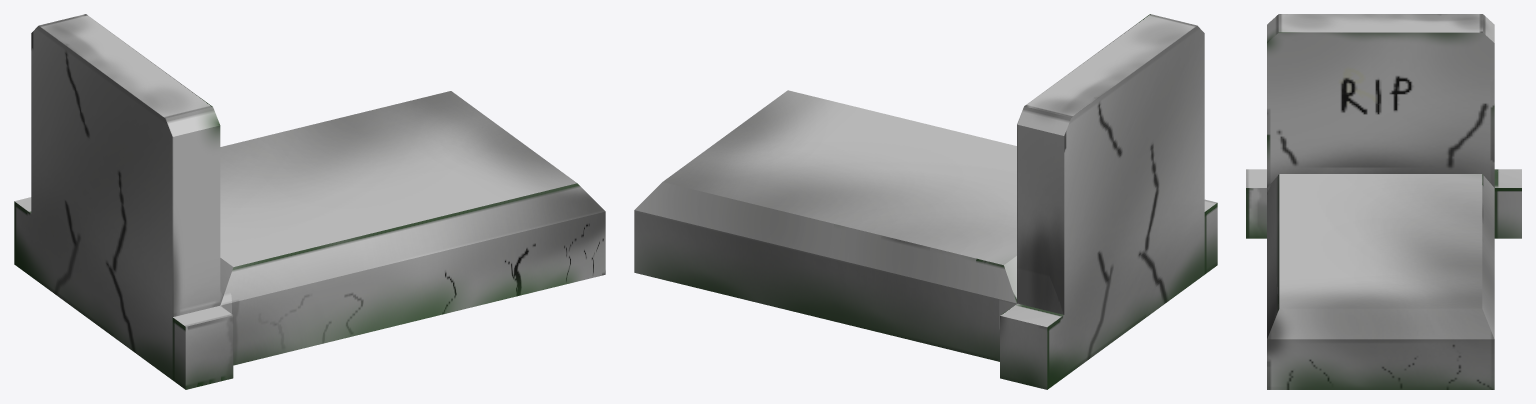
The model's file is mali_grob.fbx.
The picture shows the model from 3 angles, left to right: view 1: azimuth 30°, elevation 25°; view 2: azimuth 150°, elevation 25°; view 3: azimuth 270°, elevation 25°; orthographic projection. The views are drawn at different scales.
Parts seen in each view (by area): view 1: mali_grob; view 2: mali_grob; view 3: mali_grob.
Part boxes in pixels (<box>): mali_grob: <box>14,14,605,389</box>; mali_grob: <box>634,14,1217,389</box>; mali_grob: <box>1246,14,1521,389</box>.
Size of the model in its own units: 249 by 362 by 205.
